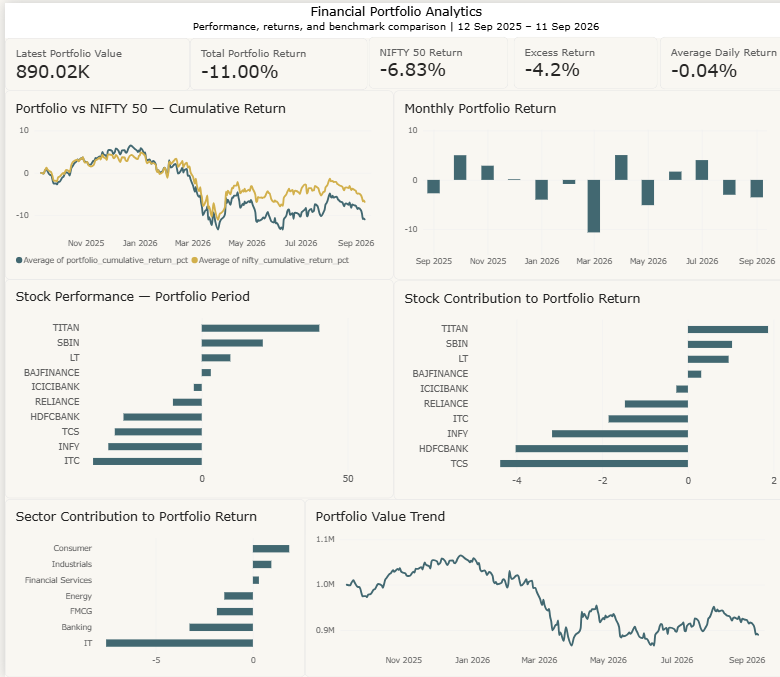

This screenshot's page, from the dashboard's own definition file:
{"tool":"powerbi","page":{"name":"Financial Portfolio Analytics","canvas":[1920,1080],"ordinal":0},"visuals":[{"type":"cardVisual","title":"Latest","fields":{"Data":["public vw_portfolio_daily.Latest Portfolio Value"]},"box":[0,55.7,296.9,84.5],"z":0},{"type":"textbox","title":"Financial Portfolio Analytics","box":[0,0,1251.5,55.7],"z":1000},{"type":"cardVisual","fields":{"Data":["public vw_portfolio_daily.Total Portfolio Return"]},"box":[296.9,55.7,284.5,83.5],"z":2000},{"type":"cardVisual","fields":{"Data":["public vw_portfolio_daily.NIFTY 50 Return"]},"box":[581.4,53.6,223.7,83.5],"z":3000},{"type":"cardVisual","fields":{"Data":["public vw_portfolio_daily.Excess Return"]},"box":[813.4,54.6,230.9,83.5],"z":4000},{"type":"lineChart","title":"Portfolio vs NIFTY 50 — Cumulative Return","fields":{"Category":["public vw_portfolio_vs_nifty_daily.trade_date"],"Y":["Avg(public vw_portfolio_vs_nifty_daily.portfolio_cumulative_return_pct)","Avg(public vw_portfolio_vs_nifty_daily.nifty_cumulative_return_pct)"]},"box":[0,140.2,621.6,302.1],"z":5000},{"type":"clusteredColumnChart","title":"Monthly Portfolio Return","fields":{"Category":["public vw_portfolio_monthly.month"],"Y":["Sum(public vw_portfolio_monthly.monthly_return_pct)"]},"box":[621.6,140.2,629.9,302.1],"z":6000},{"type":"clusteredBarChart","title":"Stock Performance — Portfolio Period","fields":{"Category":["public vw_stock_performance.symbol"],"Y":["Sum(public vw_stock_performance.return_pct)"]},"box":[0,442.2,480,351.1],"z":7000},{"type":"clusteredBarChart","title":"Stock Contribution to Portfolio Return","fields":{"Category":["public vw_stock_contribution.symbol"],"Y":["Sum(public vw_stock_contribution.portfolio_contribution_pct)"]},"box":[480,442.2,480,351.1],"z":8000},{"type":"clusteredBarChart","title":"Sector Contribution to Portfolio Return","fields":{"Category":["public vw_sector_analysis.sector"],"Y":["Sum(public vw_stock_contribution.portfolio_contribution_pct)"]},"box":[0,793.3,480,286.7],"z":9000},{"type":"lineChart","title":"Portfolio Value Trend","fields":{"Category":["public vw_portfolio_daily.trade_date"],"Y":["Sum(public vw_portfolio_daily.portfolio_value)"]},"box":[480.4,793.8,771.1,286.6],"z":10000},{"type":"cardVisual","fields":{"Data":["public vw_portfolio_daily.Average Daily Return"]},"box":[1047.4,54.6,204.2,84.2],"z":11000}]}

Visuals, with their boxes on the page's 1920x1080 design canvas (x1, y1, x2, y2). These are canvas units, not pixel positions in the 780x677 screenshot, which may show the page scaled, cropped or inside an application window:
"Latest" cardVisual: detection(0, 56, 297, 140)
"Financial Portfolio Analytics" textbox: detection(0, 0, 1252, 56)
cardVisual - public vw_portfolio_daily.Total Portfolio Return: detection(297, 56, 581, 139)
cardVisual - public vw_portfolio_daily.NIFTY 50 Return: detection(581, 54, 805, 137)
cardVisual - public vw_portfolio_daily.Excess Return: detection(813, 55, 1044, 138)
"Portfolio vs NIFTY 50 — Cumulative Return" lineChart: detection(0, 140, 622, 442)
"Monthly Portfolio Return" clusteredColumnChart: detection(622, 140, 1252, 442)
"Stock Performance — Portfolio Period" clusteredBarChart: detection(0, 442, 480, 793)
"Stock Contribution to Portfolio Return" clusteredBarChart: detection(480, 442, 960, 793)
"Sector Contribution to Portfolio Return" clusteredBarChart: detection(0, 793, 480, 1080)
"Portfolio Value Trend" lineChart: detection(480, 794, 1252, 1080)
cardVisual - public vw_portfolio_daily.Average Daily Return: detection(1047, 55, 1252, 139)
